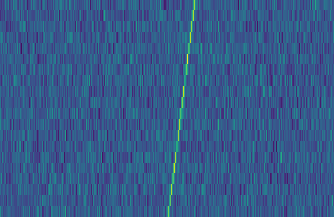signal: (164, 0, 199, 217)
